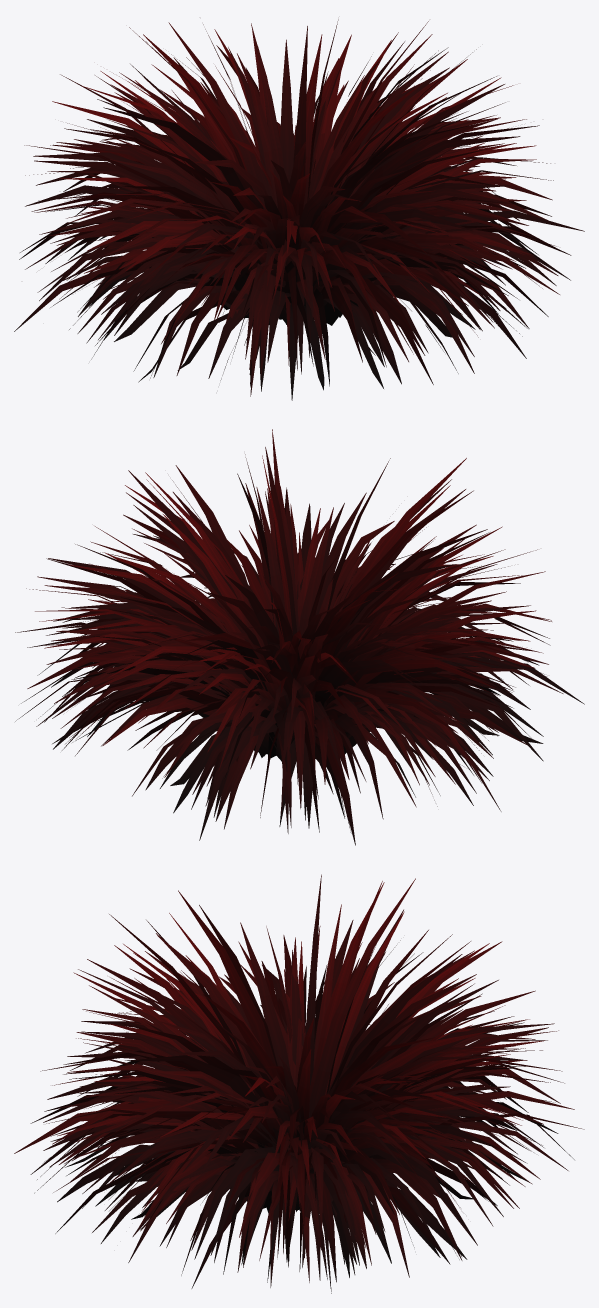
File: alpine_tussock_v03.glb
3 renders of one model, top to bottom at view 1: azimuth 30°, elevation 25°; view 2: azimuth 150°, elevation 25°; view 3: azimuth 270°, elevation 25°, orthographic. The views are drawn at different scales.
Parts seen in each view (by area): view 1: alpine_tussock_v03; view 2: alpine_tussock_v03; view 3: alpine_tussock_v03.
Boxes of the visible parts, box(x1,y1,x2,y2) form: alpine_tussock_v03: box(14, 19, 584, 400); alpine_tussock_v03: box(15, 429, 584, 845); alpine_tussock_v03: box(14, 874, 584, 1293).
Size of the model in its own units: 0.4069 by 0.2063 by 0.4106.
1 material, 1 textured.
